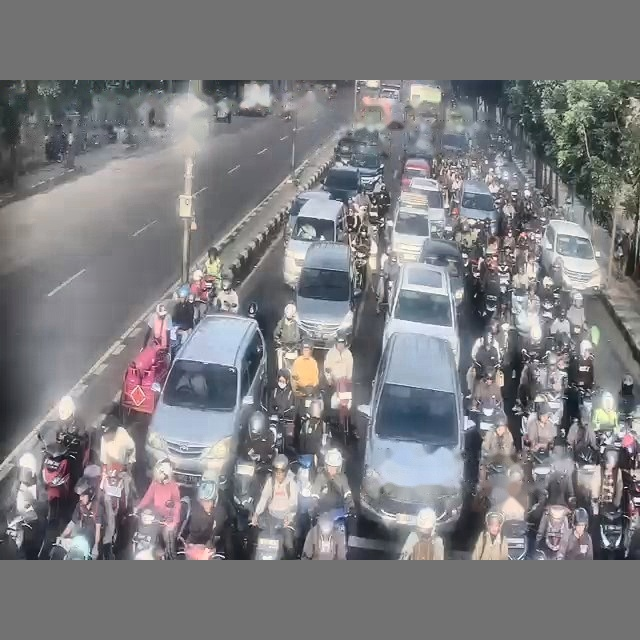Mobil: (358, 333, 464, 532), (145, 314, 266, 486), (383, 263, 459, 363), (296, 242, 362, 348), (283, 198, 345, 286), (542, 220, 601, 293), (419, 238, 464, 307), (386, 194, 430, 262), (401, 177, 446, 236), (459, 180, 500, 233), (285, 189, 329, 236), (349, 148, 383, 191), (322, 166, 360, 201), (401, 157, 430, 187), (441, 131, 468, 155), (215, 99, 231, 123)
